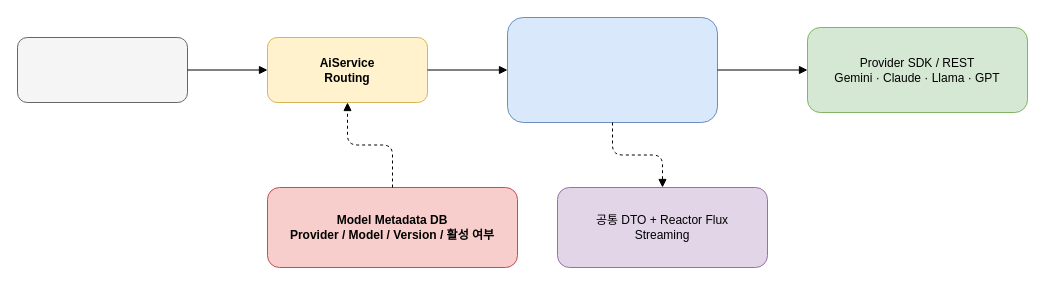
Some shapes in this 1045 by 285 pixel diagram are drawn without their labels. Each missing label, with the centre of its shape:
"Frontend / 업무 화면" goes at (102,69).
"Provider Service SDK / 인증 / 응답 차이 격리" goes at (612,69).
